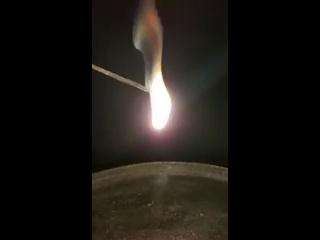Fire: (140, 11, 174, 128)
